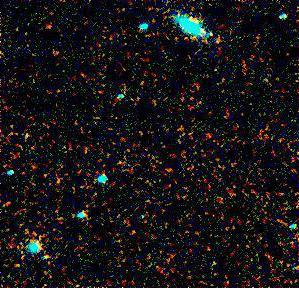star: (201, 23, 231, 53)
